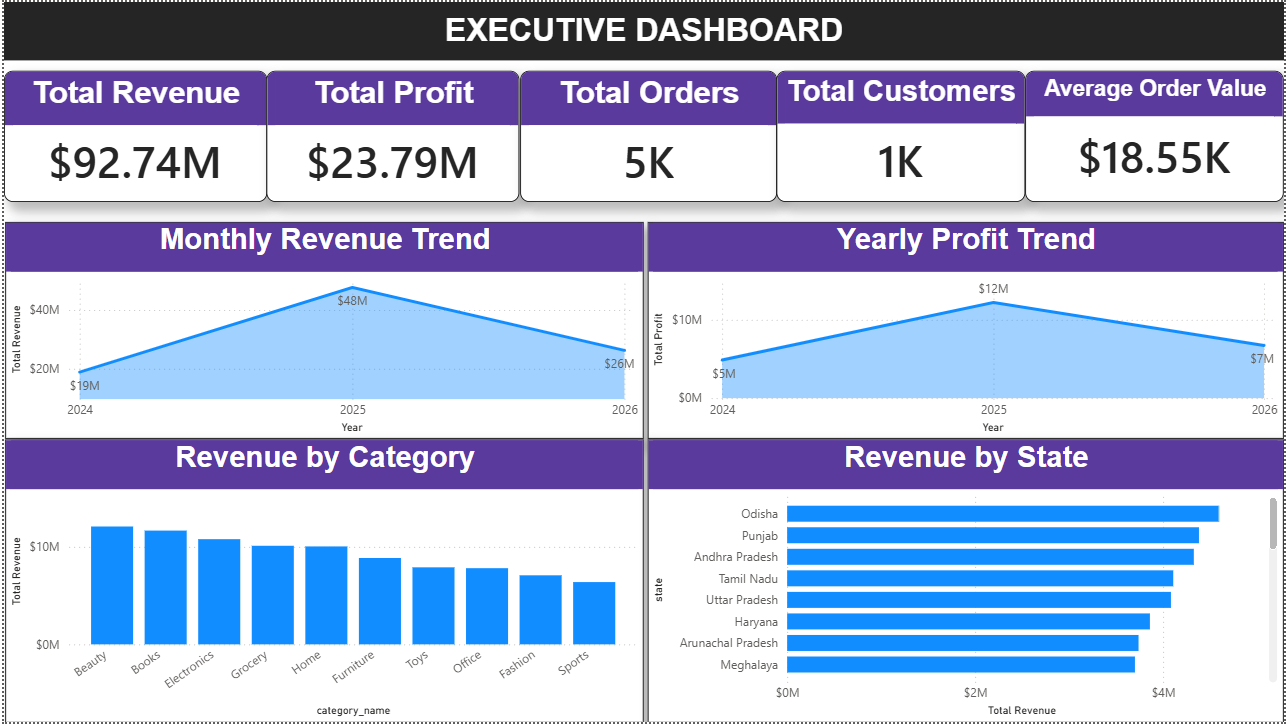

The page's visual inventory and layout, read from the dashboard file:
{"tool":"powerbi","page":{"name":"Executive Dashboard","canvas":[1280,720],"ordinal":0},"visuals":[{"type":"cardVisual","title":"Total Revenue","fields":{"Data":["Measures (2).Total Revenue"]},"box":[0,68.6,262.9,131.4],"z":0},{"type":"cardVisual","title":"Total Profit","fields":{"Data":["Measures (2).Total Profit"]},"box":[262.9,68.6,252.9,131.4],"z":1000},{"type":"cardVisual","title":"Total Orders","fields":{"Data":["Measures (2).Total Orders"]},"box":[515.7,68.6,257.1,131.4],"z":2000},{"type":"cardVisual","title":"Total Customers","fields":{"Data":["Measures (2).Total Customers"]},"box":[772.9,68.6,248.6,131.4],"z":3000},{"type":"cardVisual","title":"Average Order Value","fields":{"Data":["Measures (2).Average Order Value"]},"box":[1021.4,68.6,258.6,131.4],"z":4000},{"type":"lineChart","title":"Monthly Revenue Trend","fields":{"Category":["public orders.order_date.Variation.Date Hierarchy.Year","public orders.order_date.Variation.Date Hierarchy.Quarter","public orders.order_date.Variation.Date Hierarchy.Month","public orders.order_date.Variation.Date Hierarchy.Day"],"Y":["Measures (2).Total Revenue"]},"box":[1.4,220,638.6,217.1],"z":5000},{"type":"lineChart","title":"Yearly Profit Trend","fields":{"Category":["public orders.order_date.Variation.Date Hierarchy.Year","public orders.order_date.Variation.Date Hierarchy.Quarter","public orders.order_date.Variation.Date Hierarchy.Month","public orders.order_date.Variation.Date Hierarchy.Day"],"Y":["Measures (2).Total Profit"]},"box":[644.3,220,635.7,217.1],"z":6000},{"type":"clusteredColumnChart","title":"Revenue by Category","fields":{"Category":["public categories.category_name"],"Y":["Measures (2).Total Revenue"]},"box":[1.4,437.1,638.6,282.9],"z":7000},{"type":"clusteredBarChart","title":"Revenue by State","fields":{"Category":["public customers.state"],"Y":["Measures (2).Total Revenue"]},"box":[644.3,437.1,635.7,282.9],"z":8000},{"type":"textbox","title":"EXECUTIVE DASHBOARD ","box":[0,0,1280,58.6],"z":9000}]}

Visuals, with their boxes in screenshot pixels (x1, y1, x2, y2), scaled from the page's 1280x720 canvas onto the 1287x726 screenshot:
"Total Revenue" cardVisual: left=0, top=69, right=264, bottom=202
"Total Profit" cardVisual: left=264, top=69, right=519, bottom=202
"Total Orders" cardVisual: left=519, top=69, right=777, bottom=202
"Total Customers" cardVisual: left=777, top=69, right=1027, bottom=202
"Average Order Value" cardVisual: left=1027, top=69, right=1286, bottom=202
"Monthly Revenue Trend" lineChart: left=1, top=222, right=644, bottom=441
"Yearly Profit Trend" lineChart: left=648, top=222, right=1286, bottom=441
"Revenue by Category" clusteredColumnChart: left=1, top=441, right=644, bottom=725
"Revenue by State" clusteredBarChart: left=648, top=441, right=1286, bottom=725
"EXECUTIVE DASHBOARD " textbox: left=0, top=0, right=1286, bottom=59
